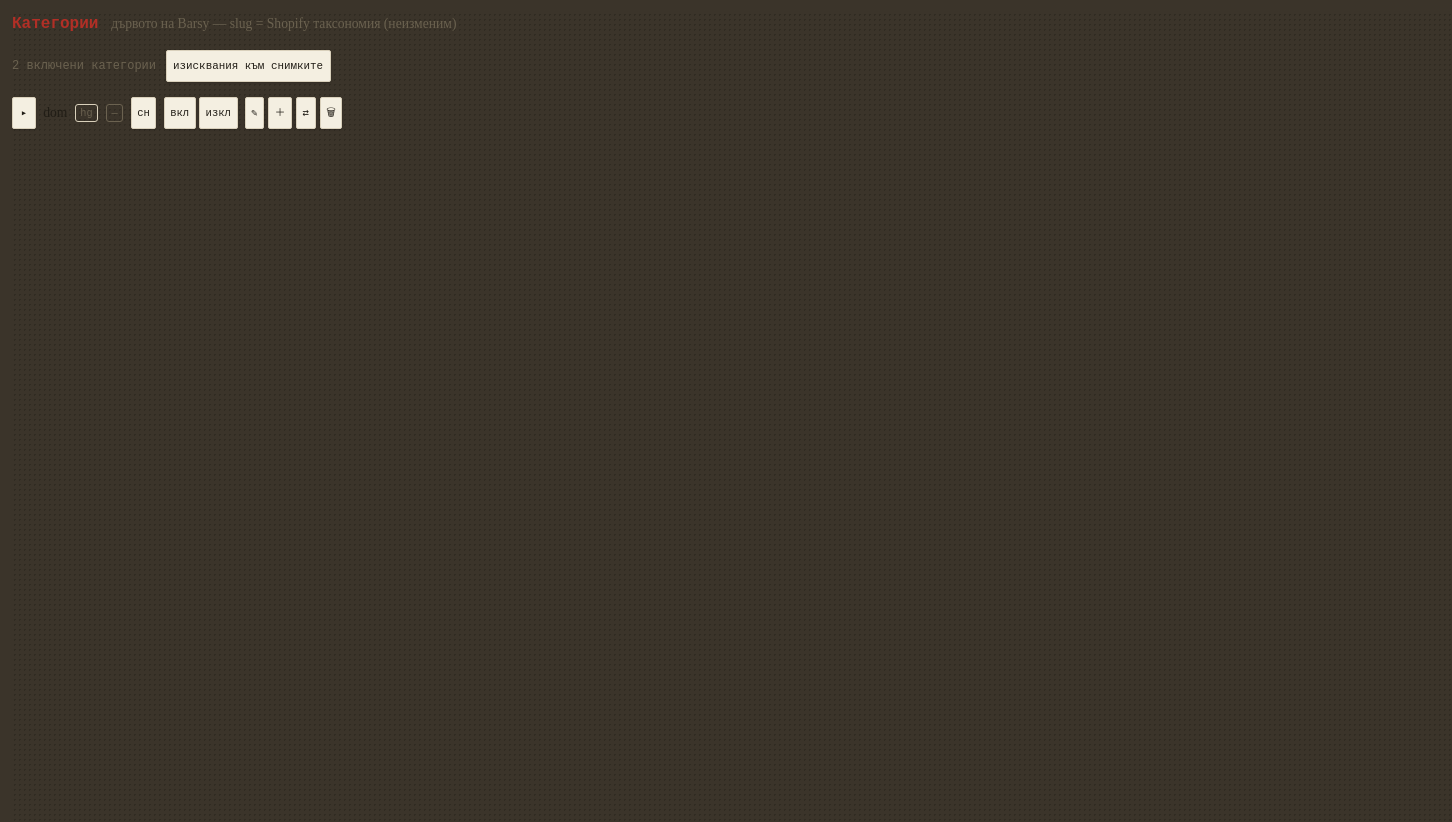
снимки на категория › keeps "no pictures" separate from "no main picture"
Expected: the text "dom" is shown, [43,102,67,124]
Click the button named "разгъни".
click(24, 113)  # box [12,97,36,129]
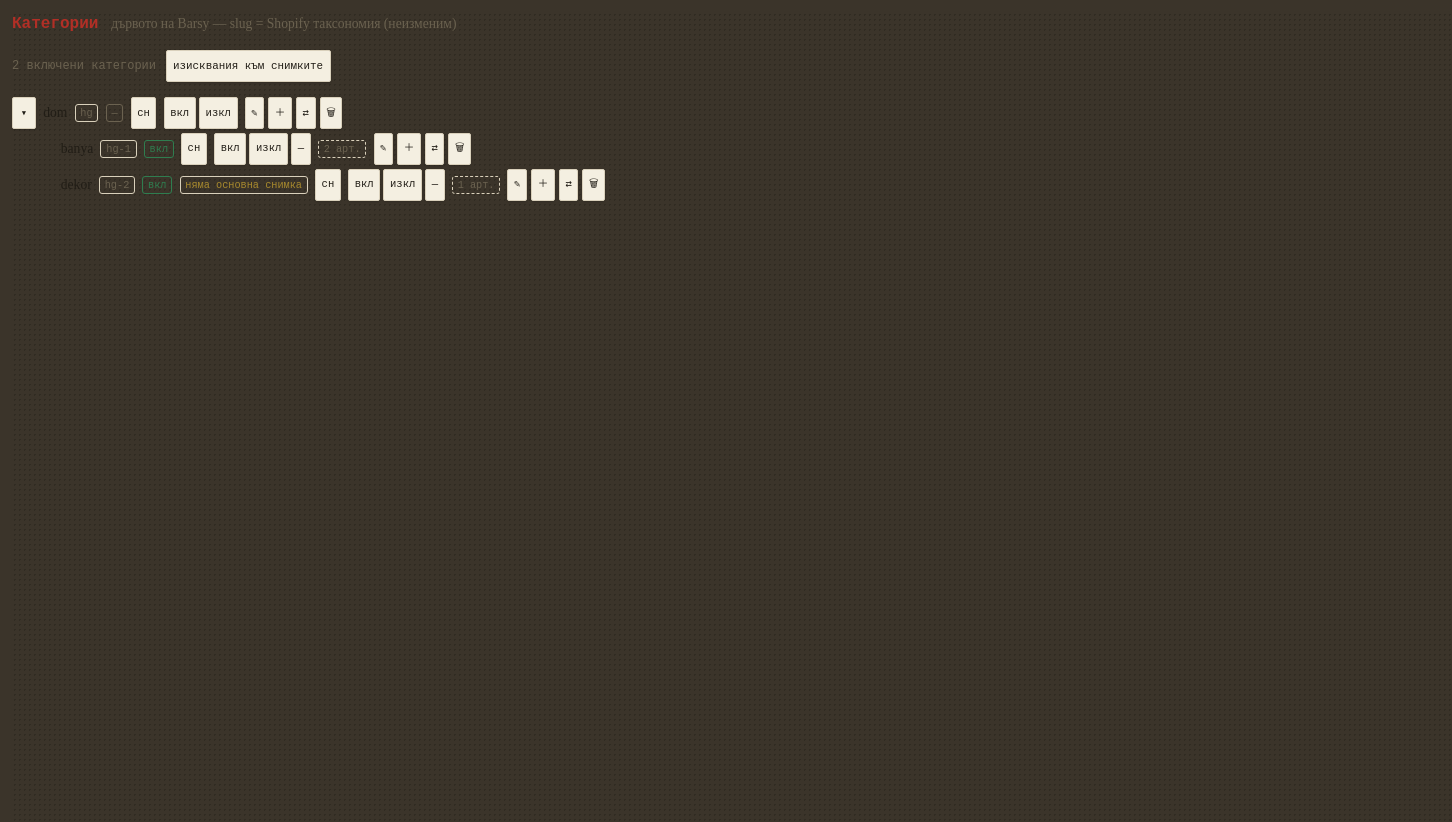
Click the button "сн" next to "няма основна снимка".
click(328, 185)  # box [315,169,341,201]
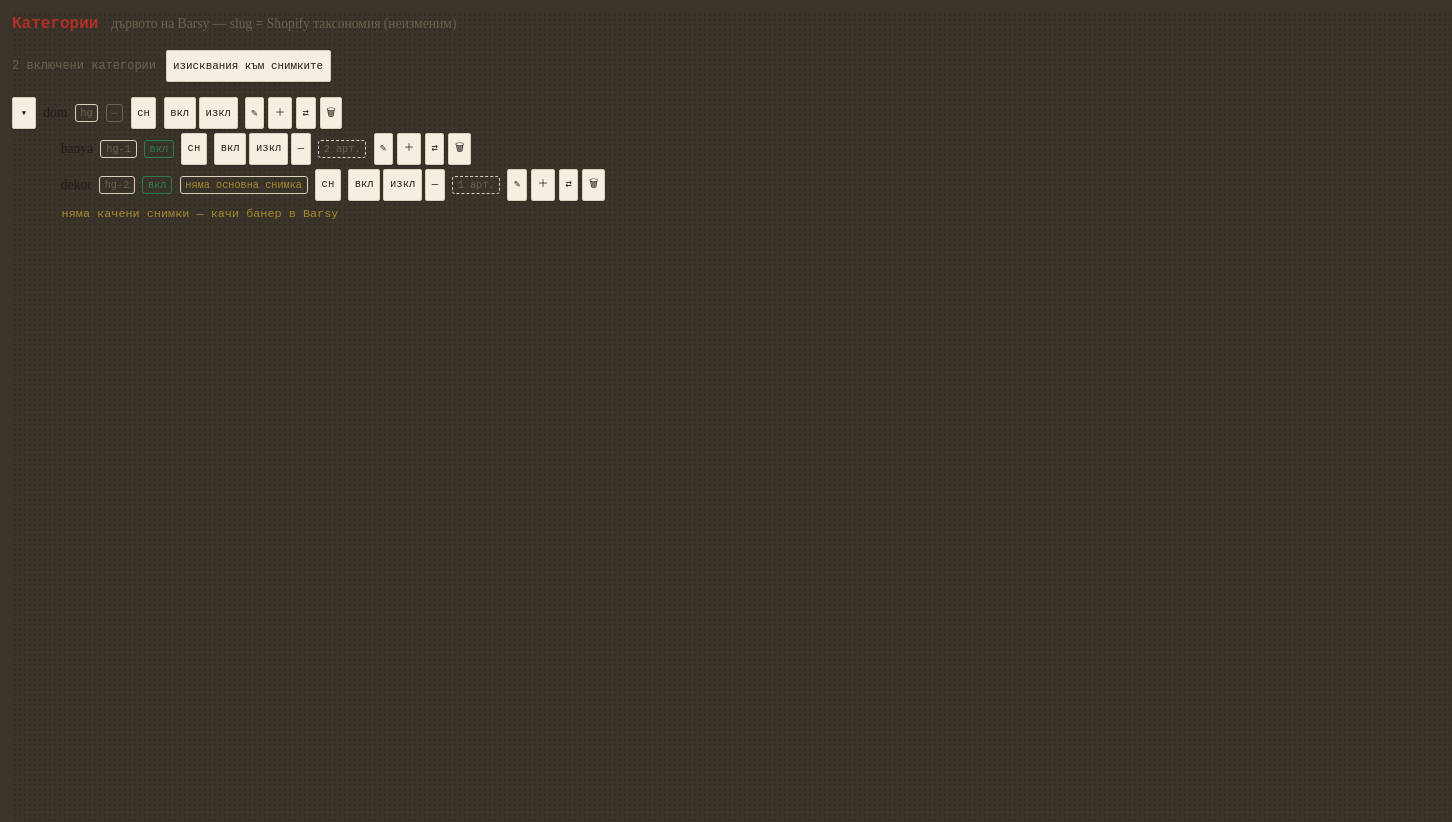
Expected: the text "няма качени снимки — качи банер в Barsy" is shown, [62,207,338,221]
